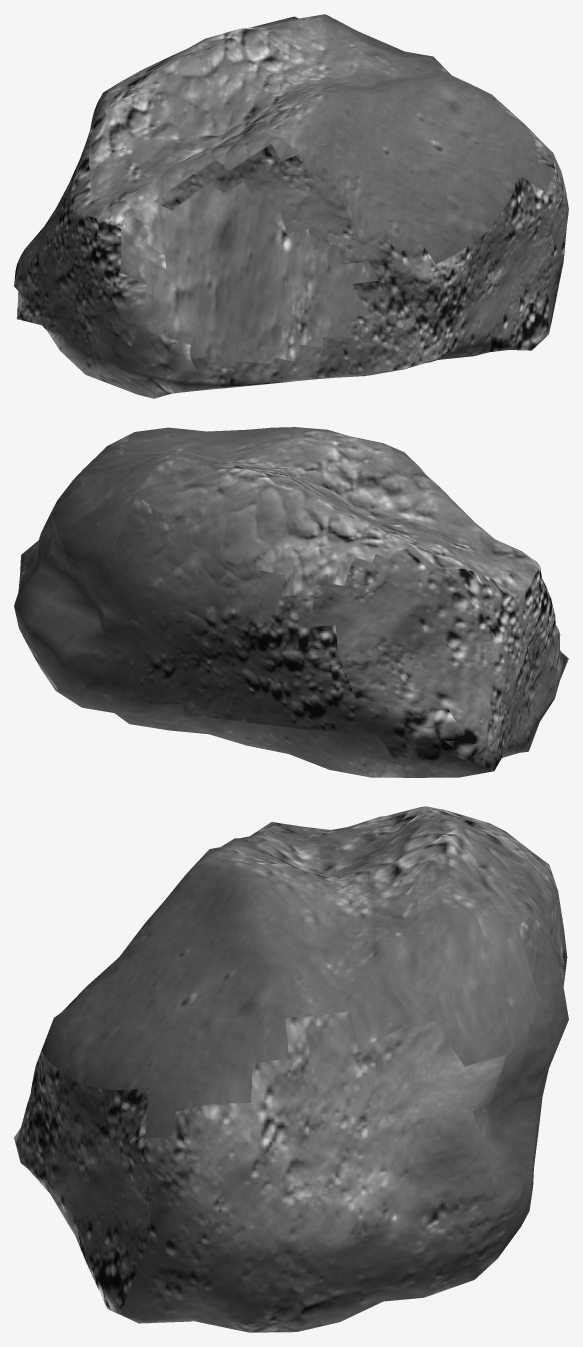
Rendered from Rock9.obj.
3 views of the same model, one above another, from view 1: azimuth 30°, elevation 25°; view 2: azimuth 150°, elevation 25°; view 3: azimuth 270°, elevation 25° (orthographic). The views are drawn at different scales.
Visible parts, largest first — view 1: Rocks7; view 2: Rocks7; view 3: Rocks7.
Boxes of the visible parts, x1,y1,x2,y2 form: Rocks7: [14, 14, 568, 398]; Rocks7: [14, 427, 568, 777]; Rocks7: [14, 806, 568, 1332].
Size of the model in its own units: 1.15 by 0.6387 by 0.8597.
Materials: 1 (1 with a texture image).
